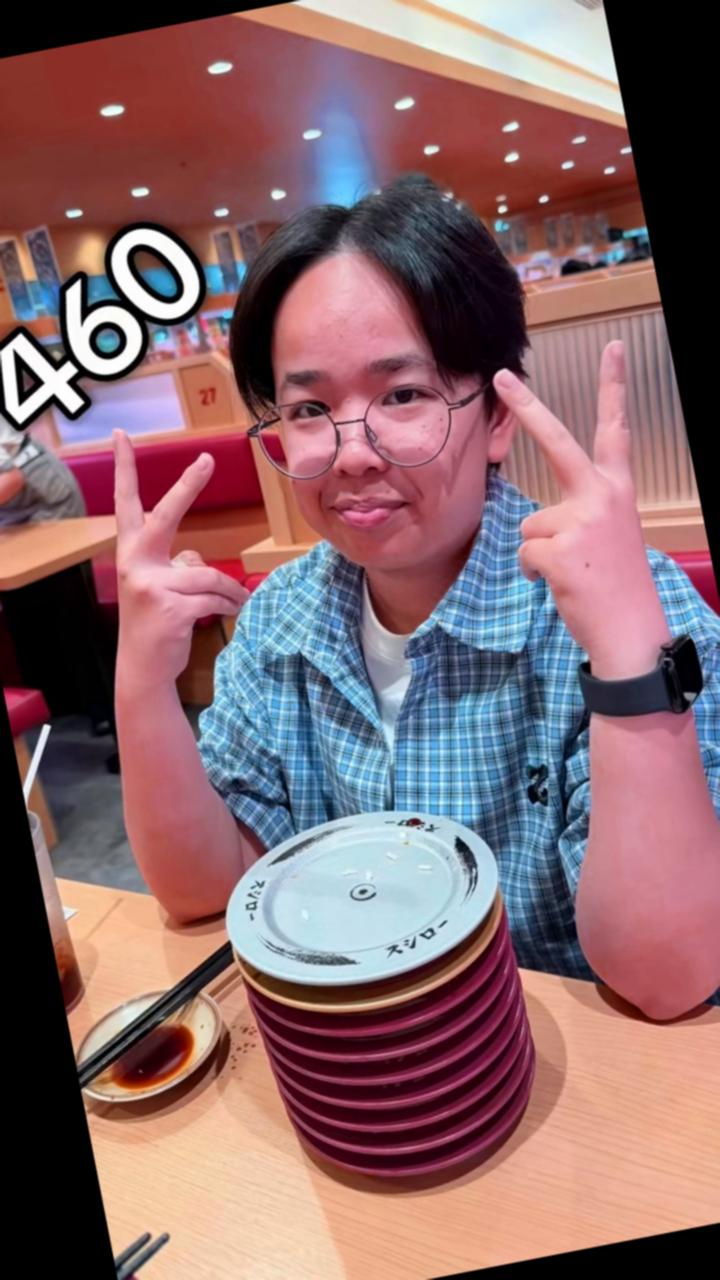Jangold: (286, 964, 466, 1016)
Janred: (314, 998, 470, 1048), (320, 1024, 484, 1070), (339, 1072, 487, 1121), (364, 1142, 514, 1186), (354, 1116, 507, 1158), (334, 1050, 480, 1094), (346, 1100, 487, 1138)
Janwhite: (234, 816, 501, 970)
